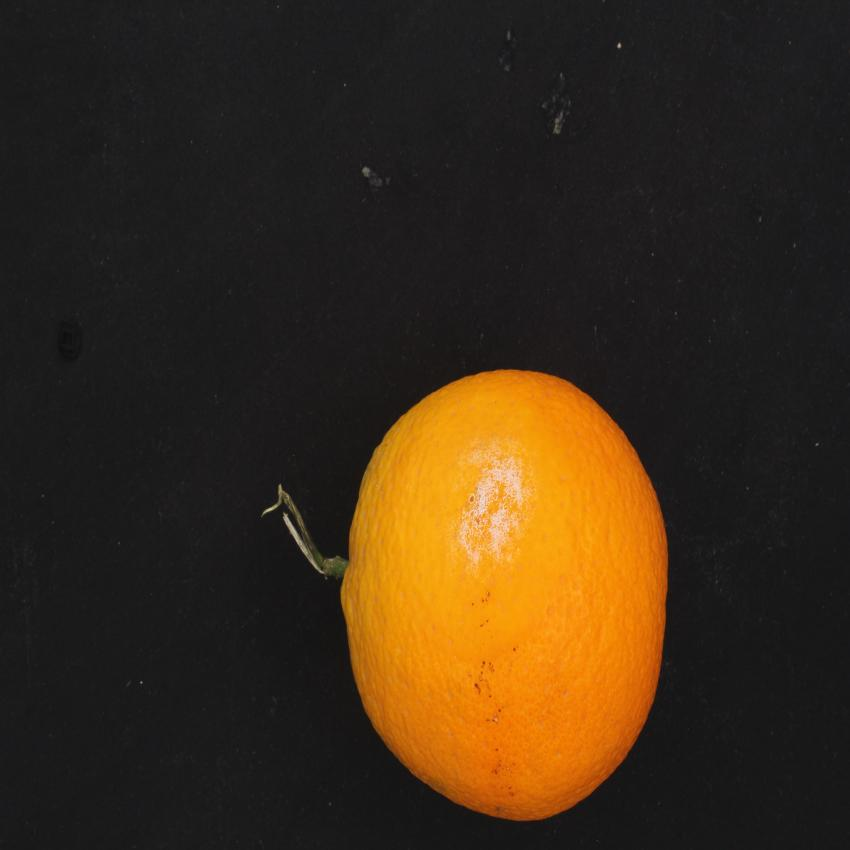Mal estado: (335, 358, 691, 829)
